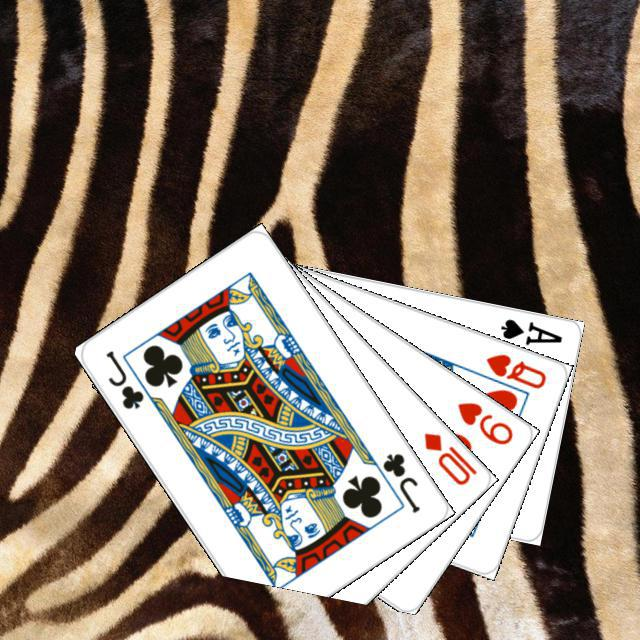10d: (419, 427, 479, 488)
9h: (452, 397, 515, 447)
As: (495, 314, 564, 347)
Jc: (377, 448, 422, 515), (101, 345, 146, 411)
Qh: (480, 349, 548, 391)
